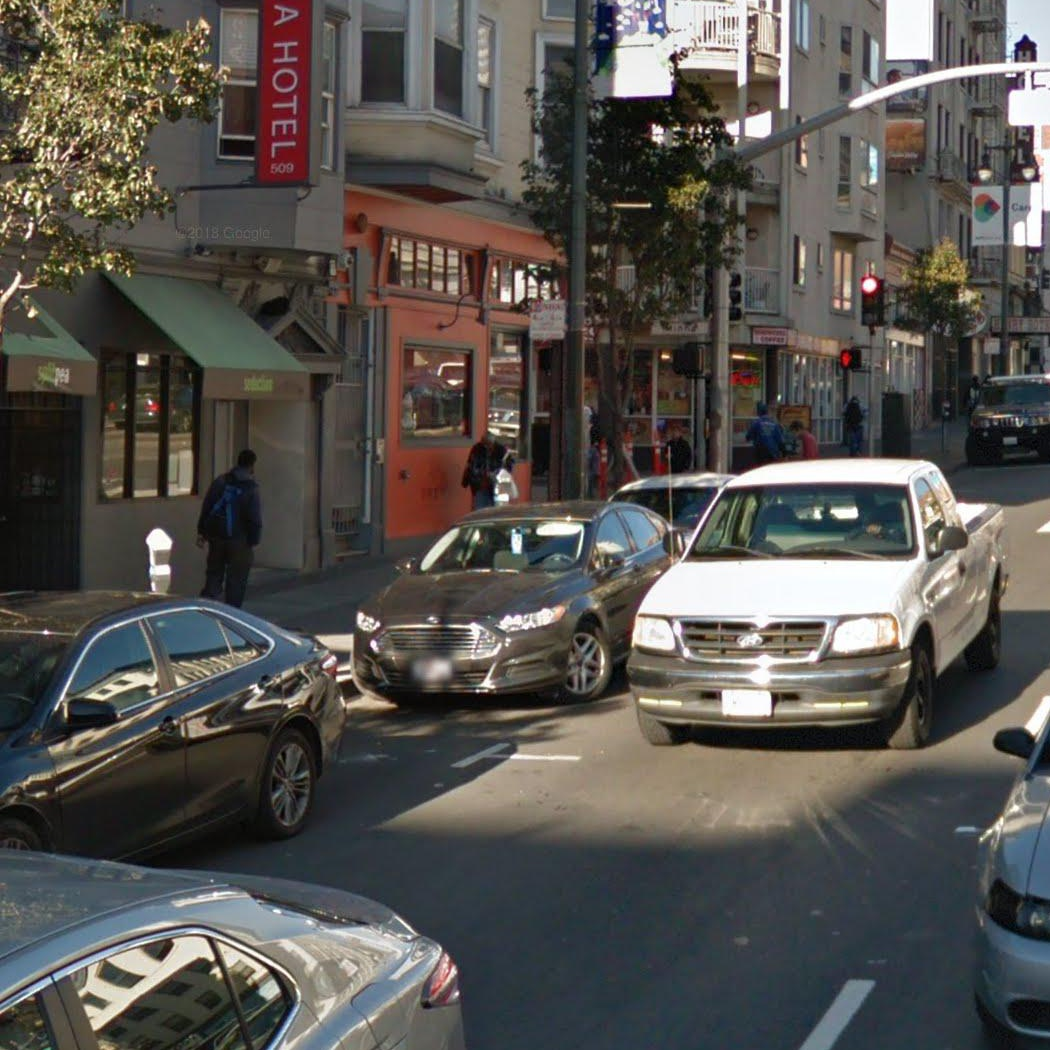No Parking: (529, 299, 567, 341)
